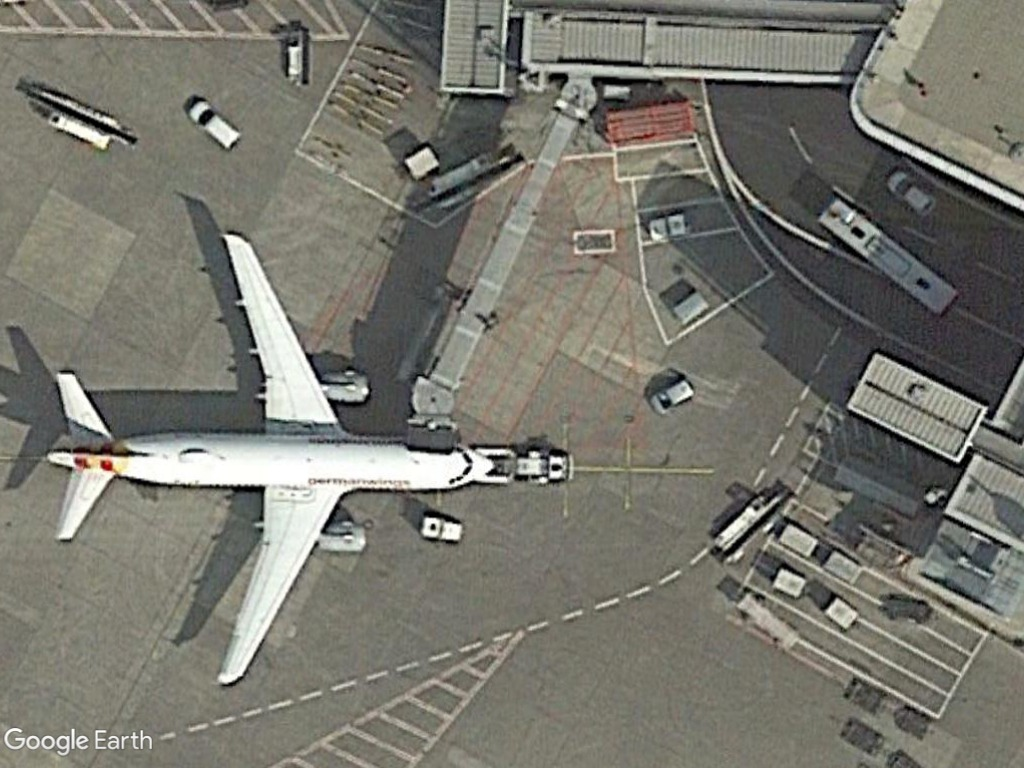airliner: (48, 223, 494, 691)
bus: (812, 189, 958, 325)
car: (881, 165, 938, 221), (646, 376, 700, 418)
van: (185, 97, 243, 154)
